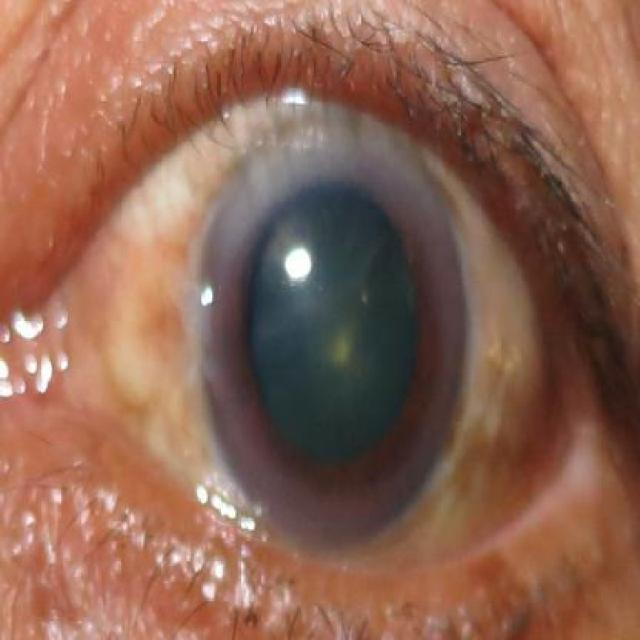Cataract: (196, 117, 468, 562)
